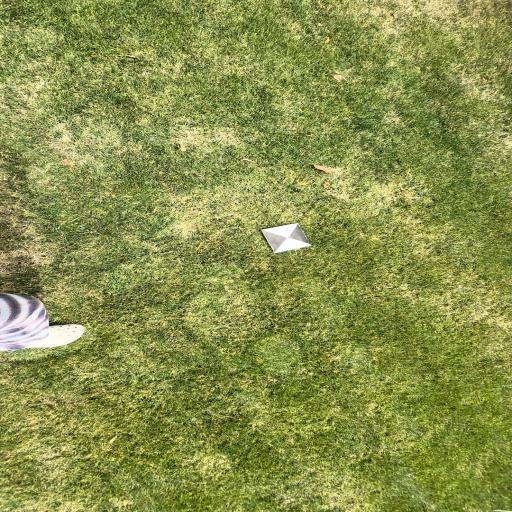target: (262, 223, 312, 253)
